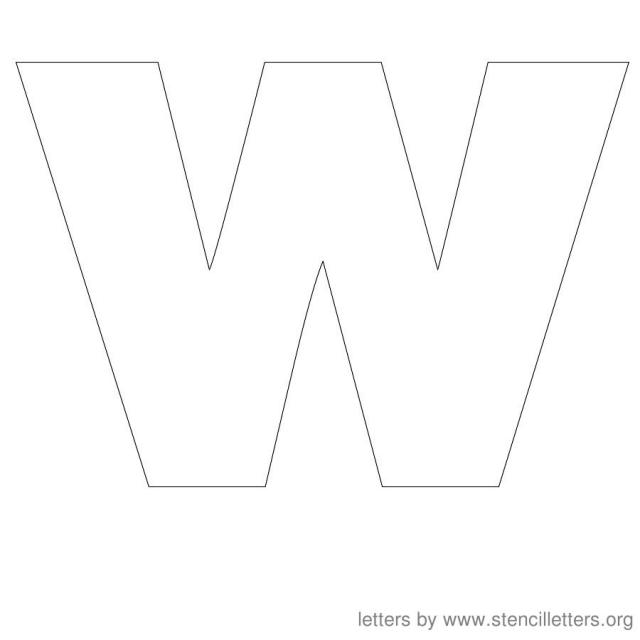W: (7, 26, 633, 538)
